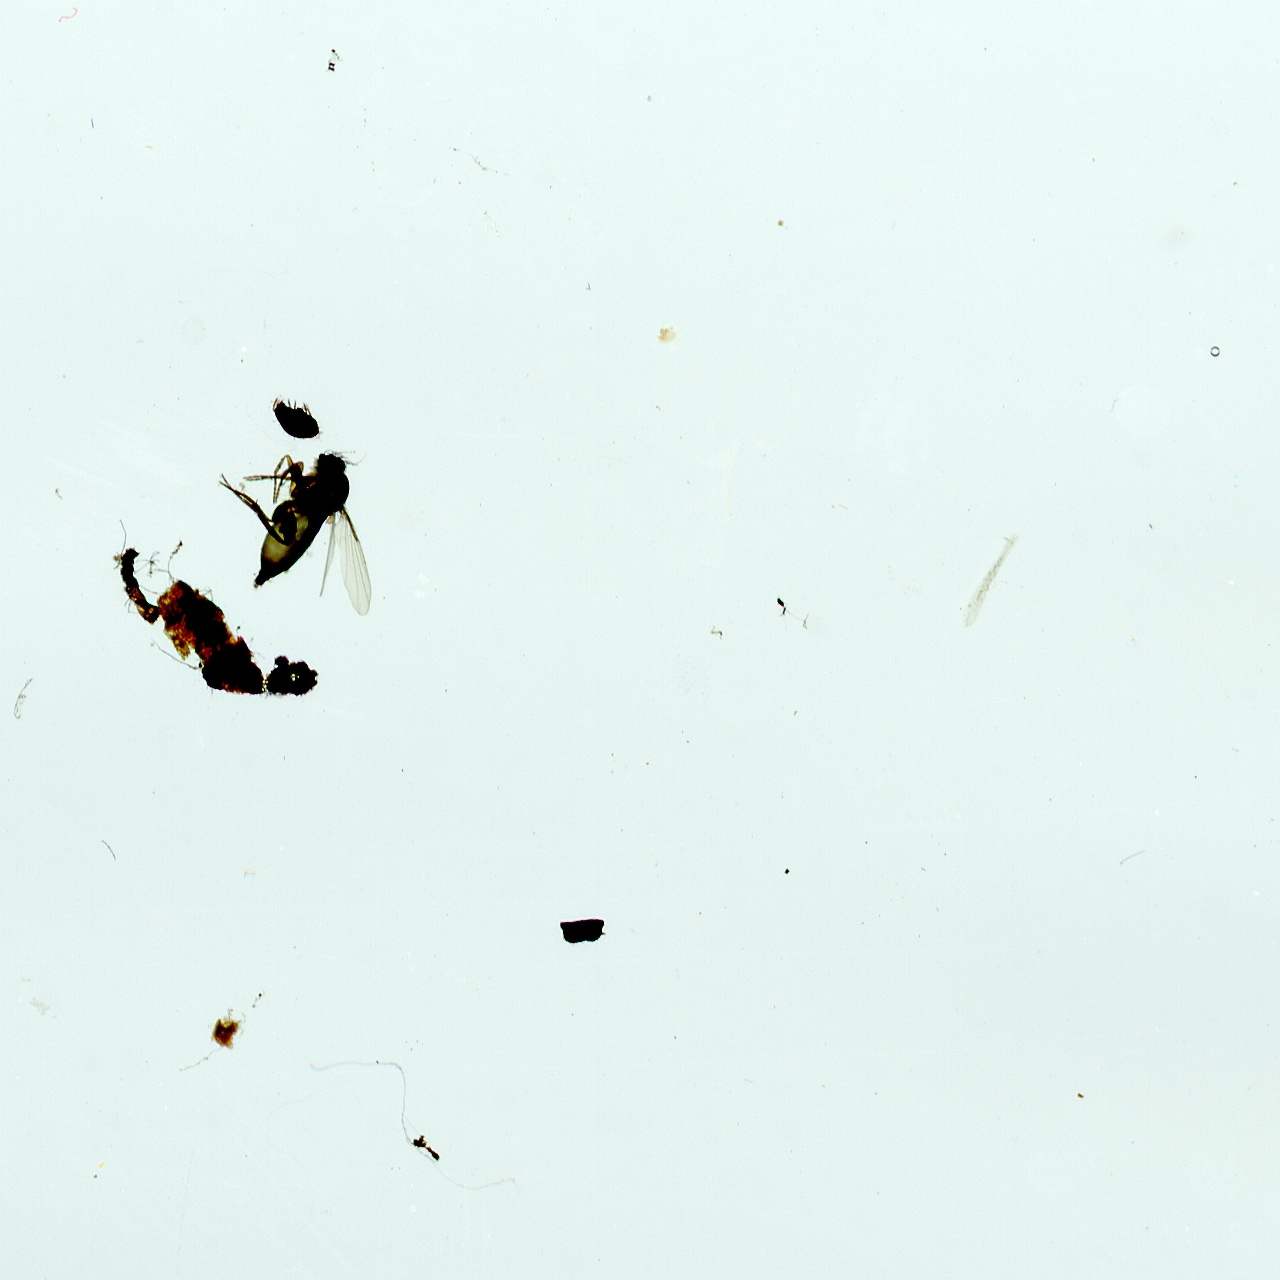arthropod: (212, 430, 380, 632), (268, 394, 322, 443)
